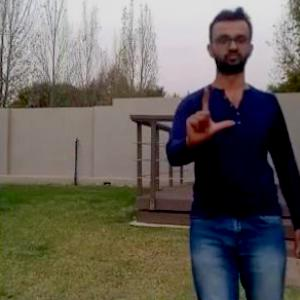land_hand: (175, 85, 233, 154)
